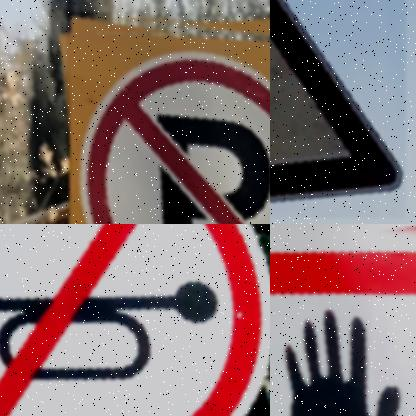No Parking: (67, 12, 270, 224)
Slow: (270, 0, 405, 200)
Stop: (270, 224, 416, 416), (293, 288, 404, 416)
